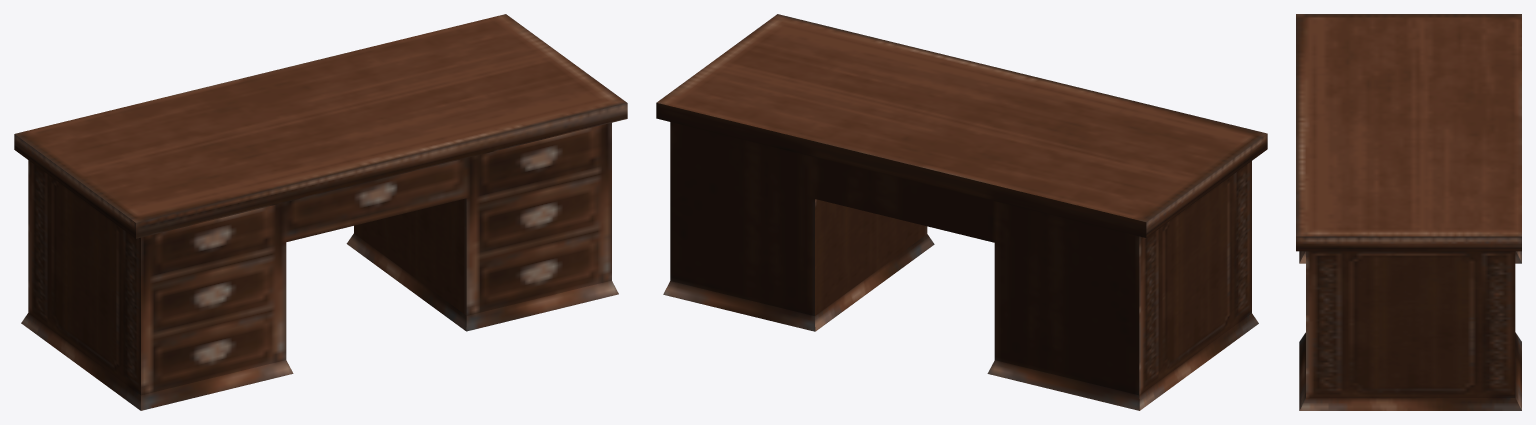
Rendered from desk.fbx.
3 views of the same model, side by side, from view 1: azimuth 30°, elevation 25°; view 2: azimuth 150°, elevation 25°; view 3: azimuth 270°, elevation 25° (orthographic). The views are drawn at different scales.
Visible parts, largest first — view 1: desk; view 2: desk; view 3: desk.
Boxes of the visible parts, box(x1,y1,x2,y2) form: desk: box(14, 14, 627, 410); desk: box(656, 14, 1267, 410); desk: box(1296, 14, 1521, 410).
Size of the model in its own units: 215 by 79.66 by 91.98.
1 material, 1 textured.
